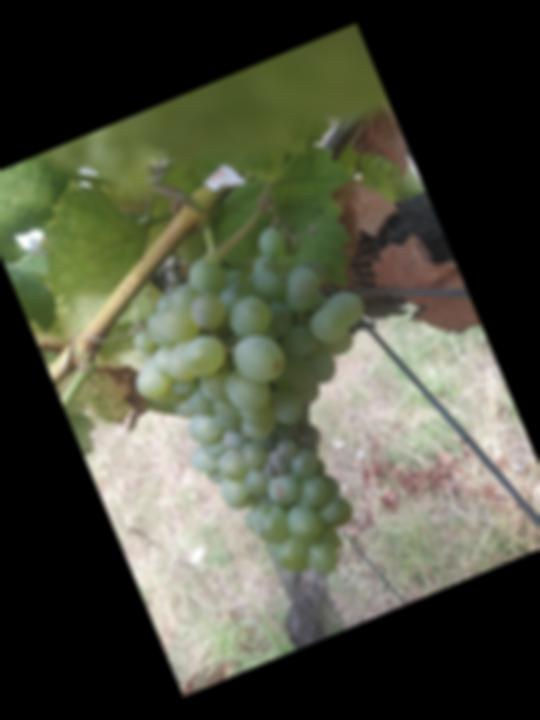grape: (96, 202, 456, 616)
